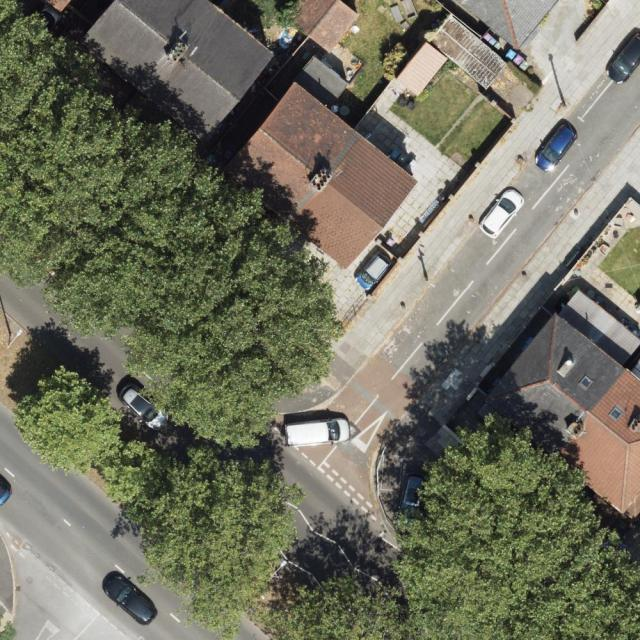roof: (222, 74, 420, 272), (481, 311, 640, 512), (76, 0, 277, 151), (449, 0, 560, 56), (287, 0, 360, 56)
skylight: (575, 372, 597, 393), (604, 403, 625, 423)
